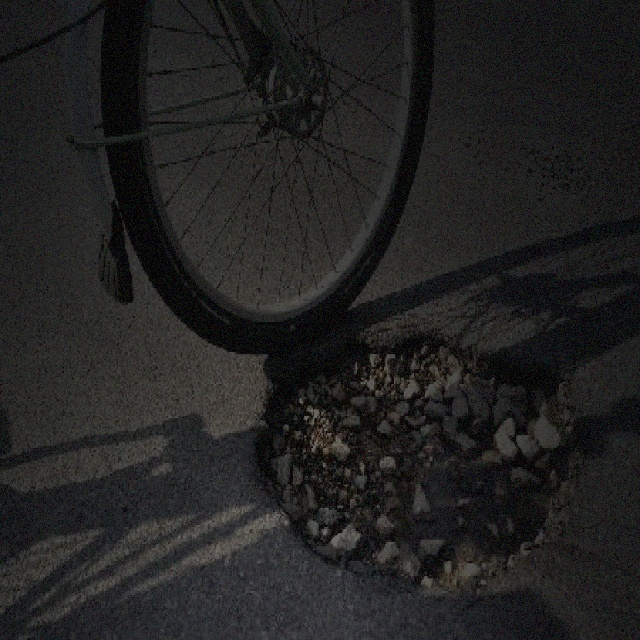pothole: (250, 326, 580, 591)
